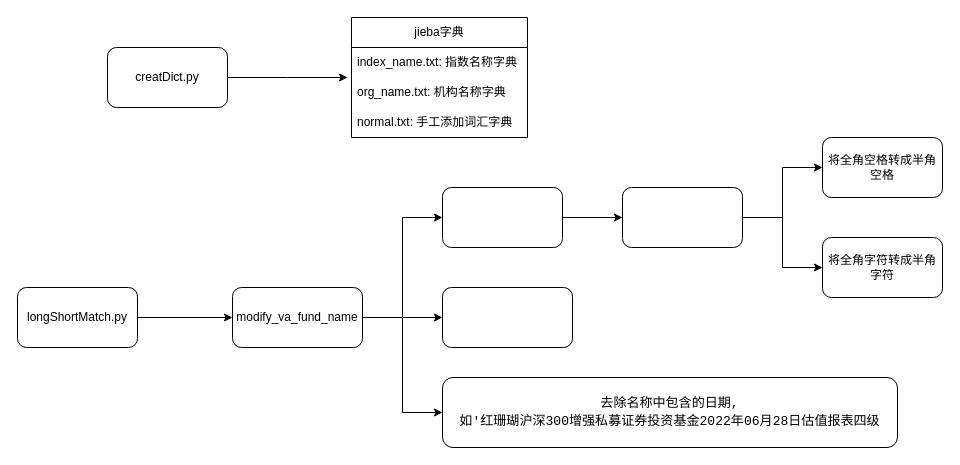
This 960x465 diagram has some shape labels left out. The centre of each missing label's shape, as x and y in pixels:
full2half: the point at 502,217
使用正则表达式去除特殊符号: the point at 507,317
将数字、字母等由全角转成半角: the point at 682,217
